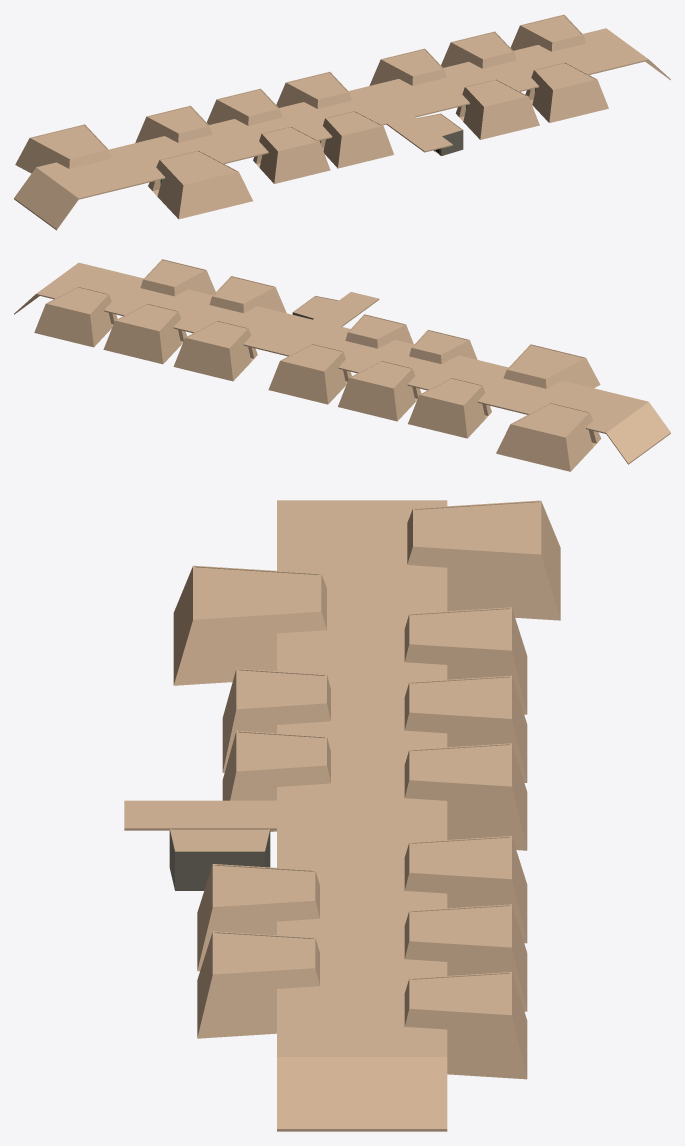
Rendered from amphis cote serpent.gltf.
3 views of the same model, one above another, from view 1: azimuth 30°, elevation 25°; view 2: azimuth 150°, elevation 25°; view 3: azimuth 270°, elevation 25° (orthographic). The views are drawn at different scales.
Parts seen in each view (by area): view 1: amphiA-L; view 2: amphiA-L; view 3: amphiA-L.
Boxes of the visible parts, left/top/right/bottom form: amphiA-L: left=14, top=14, right=670, bottom=230; amphiA-L: left=14, top=259, right=670, bottom=471; amphiA-L: left=124, top=500, right=560, bottom=1131.
Size of the model in its own units: 233 by 12.62 by 71.63.
Materials: 1 (1 with a texture image).
